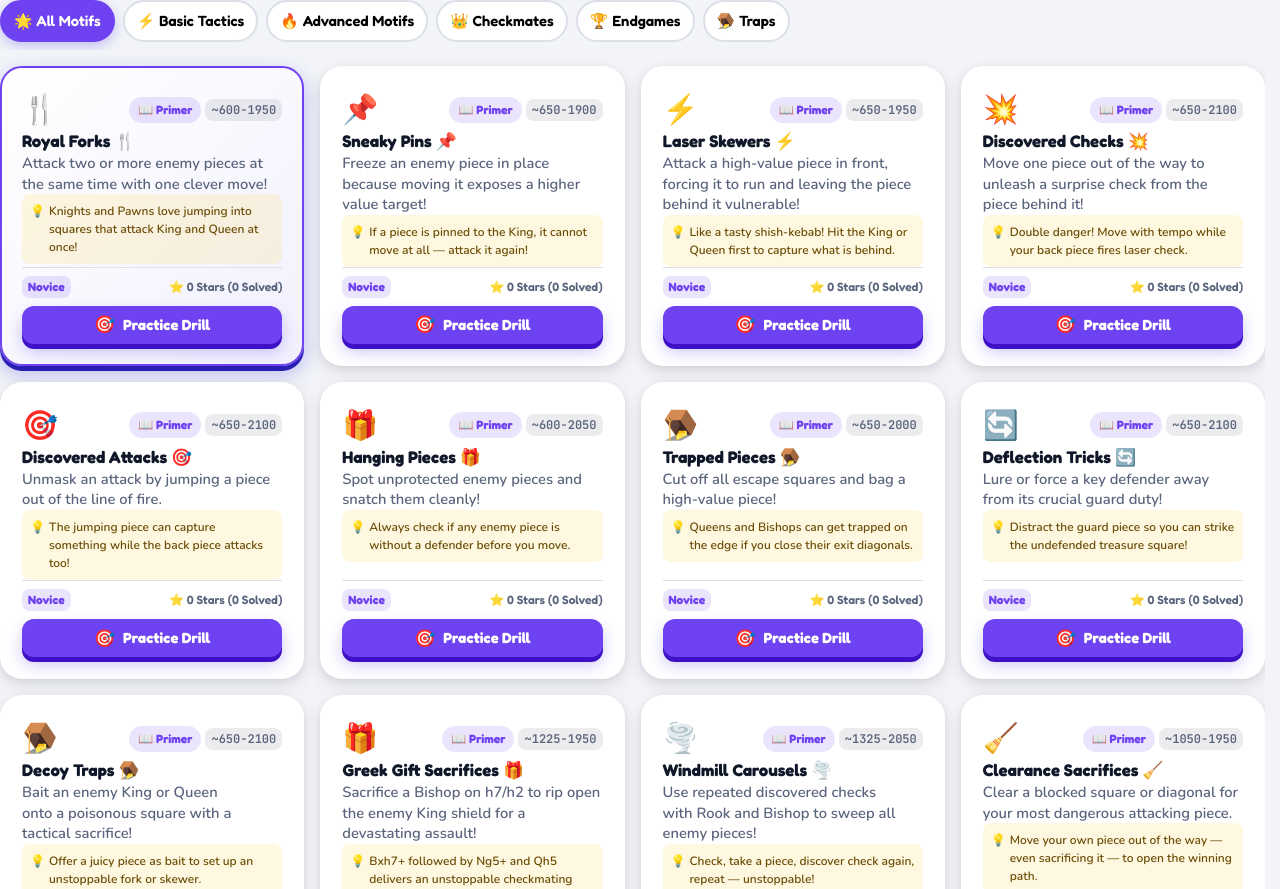
Test: ThemeDrillSelector.vue › Theme Concept Primer Modal Flow › opens concept primer modal on clicking primer button and displays motif definition and visual clues
Click the button with test id "theme-primer-btn-fork" at (165, 110), box [129,97,201,123]
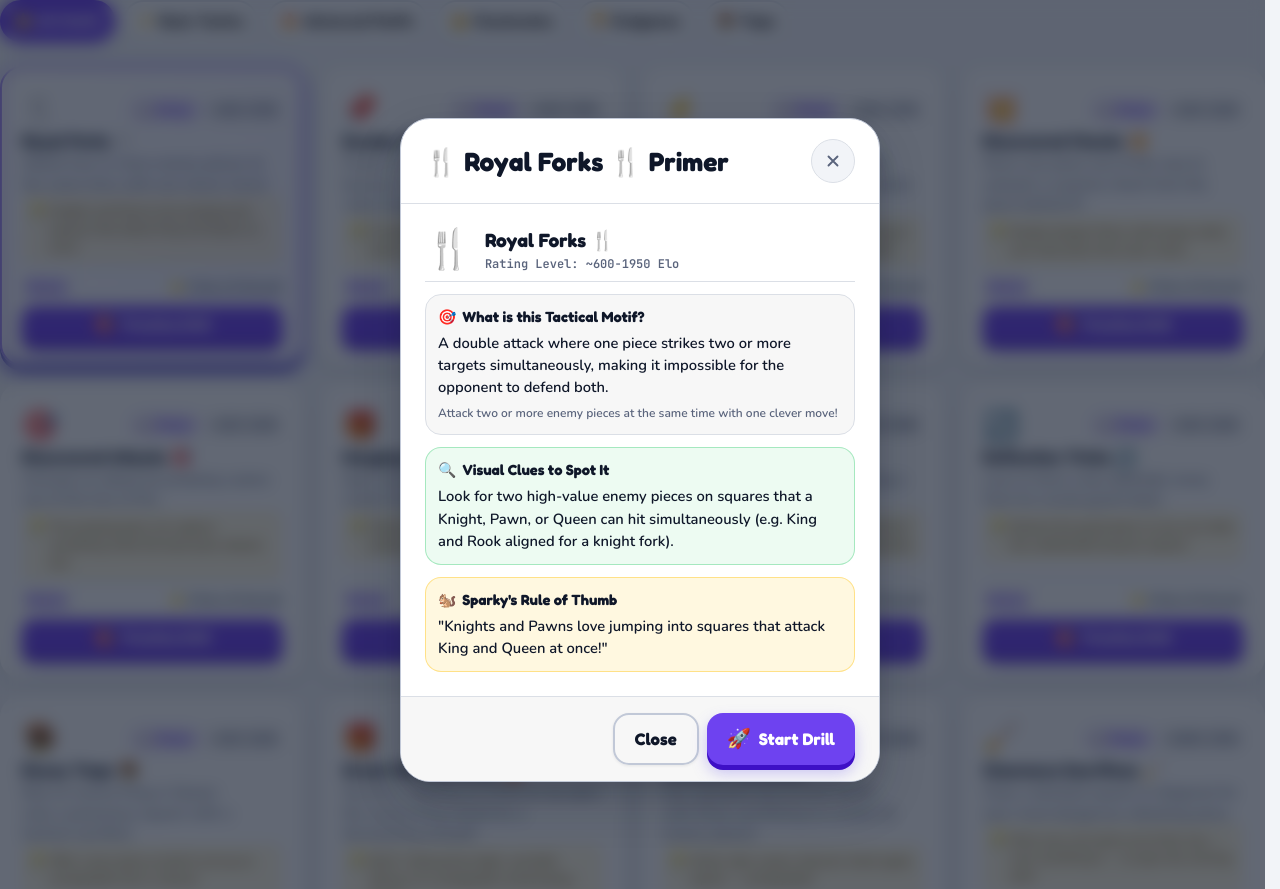
expect the dialog with test id "theme-primer-modal" is shown: met, box [400,118,880,782]
expect the element with test id "primer-concept-section" is shown: met, box [425,294,855,435]
expect the text with test id "primer-concept-text" shows "double attack where one piece strikes two or more targets": met, box [438,333,791,397]
